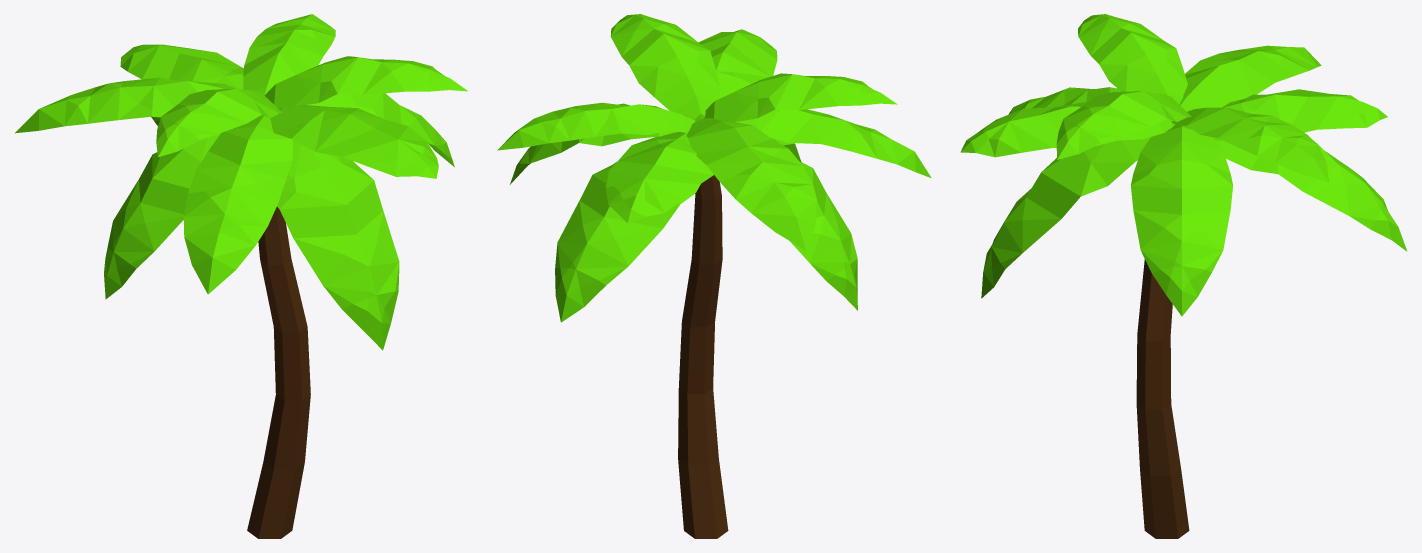
The model's file is tree_palm.glb.
3 views of the same model, side by side, from view 1: azimuth 30°, elevation 25°; view 2: azimuth 150°, elevation 25°; view 3: azimuth 270°, elevation 25° (orthographic).
Visible parts, largest first — view 1: Sphere.010, Sphere, Cylinder, Sphere.004, Sphere.005, Sphere.007, Sphere.009, Sphere.008, Sphere.006, Sphere.001, Sphere.002; view 2: Cylinder, Sphere.009, Sphere.003, Sphere.007, Sphere.001, Sphere.008, Sphere.006, Sphere, Sphere.004, Sphere.005, Sphere.002; view 3: Sphere.002, Cylinder, Sphere.010, Sphere.008, Sphere.009, Sphere.006, Sphere.007, Sphere.003, Sphere.001, Sphere.005, Sphere.
Part boxes in pixels (x1,y1,x2,y2): Sphere.010: (277, 140, 399, 350); Sphere: (183, 115, 292, 294); Cylinder: (247, 206, 310, 538); Sphere.004: (104, 133, 220, 299); Sphere.005: (270, 105, 438, 178); Sphere.007: (264, 56, 467, 108); Sphere.009: (15, 77, 235, 133); Sphere.008: (156, 88, 282, 157); Sphere.006: (243, 14, 335, 95); Sphere.001: (120, 44, 243, 89); Sphere.002: (307, 93, 454, 167); Cylinder: (678, 175, 728, 538); Sphere.009: (686, 118, 817, 250); Sphere.003: (555, 162, 700, 322); Sphere.007: (610, 14, 720, 121); Sphere.001: (605, 132, 713, 223); Sphere.008: (704, 73, 897, 122); Sphere.006: (497, 102, 695, 150); Sphere: (736, 109, 931, 177); Sphere.004: (790, 161, 857, 310); Sphere.005: (698, 29, 777, 98); Sphere.002: (510, 103, 678, 184); Sphere.002: (1131, 125, 1232, 316); Cylinder: (1136, 259, 1189, 538); Sphere.010: (981, 120, 1175, 298); Sphere.008: (1078, 14, 1187, 104); Sphere.009: (1179, 45, 1321, 111); Sphere.006: (1172, 107, 1329, 182); Sphere.007: (1056, 91, 1191, 159); Sphere.003: (1216, 140, 1407, 251); Sphere.001: (1213, 89, 1387, 140); Sphere.005: (960, 101, 1173, 157); Sphere: (1008, 87, 1120, 114).
Size of the model in its own units: 284 by 346 by 300.
